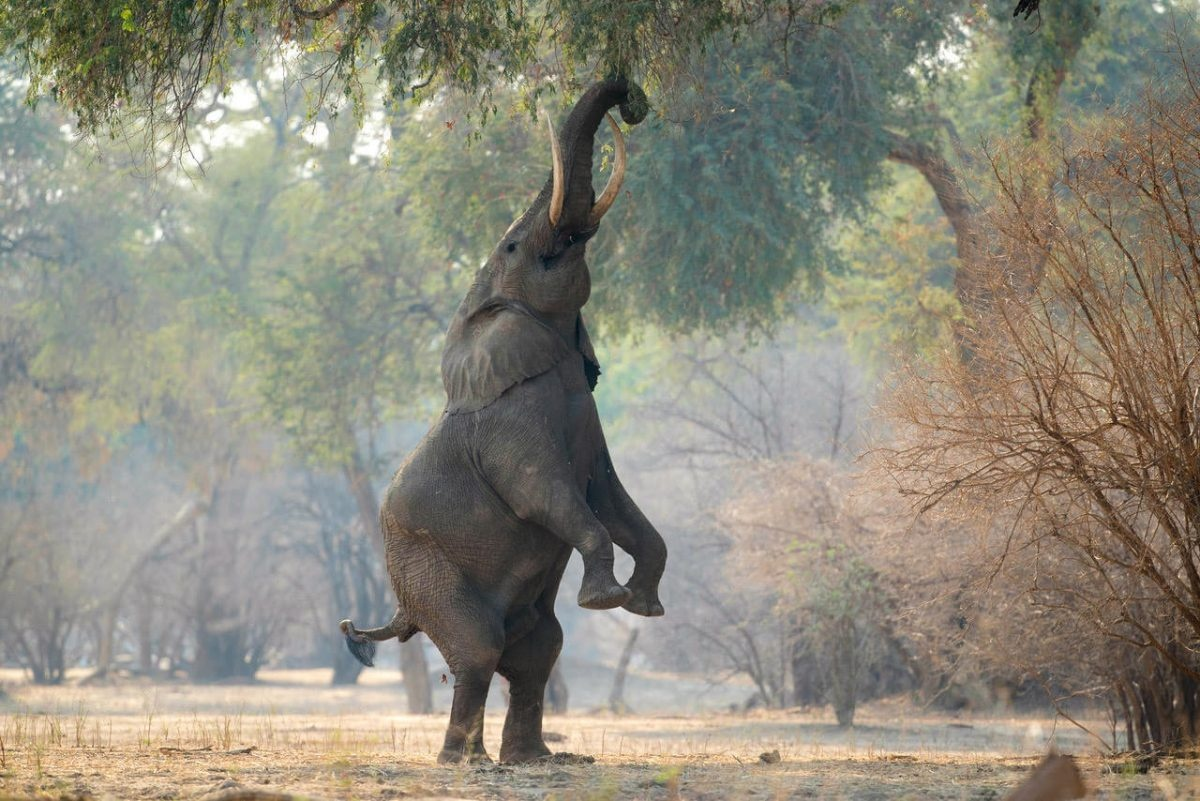elephant: (335, 69, 673, 775)
